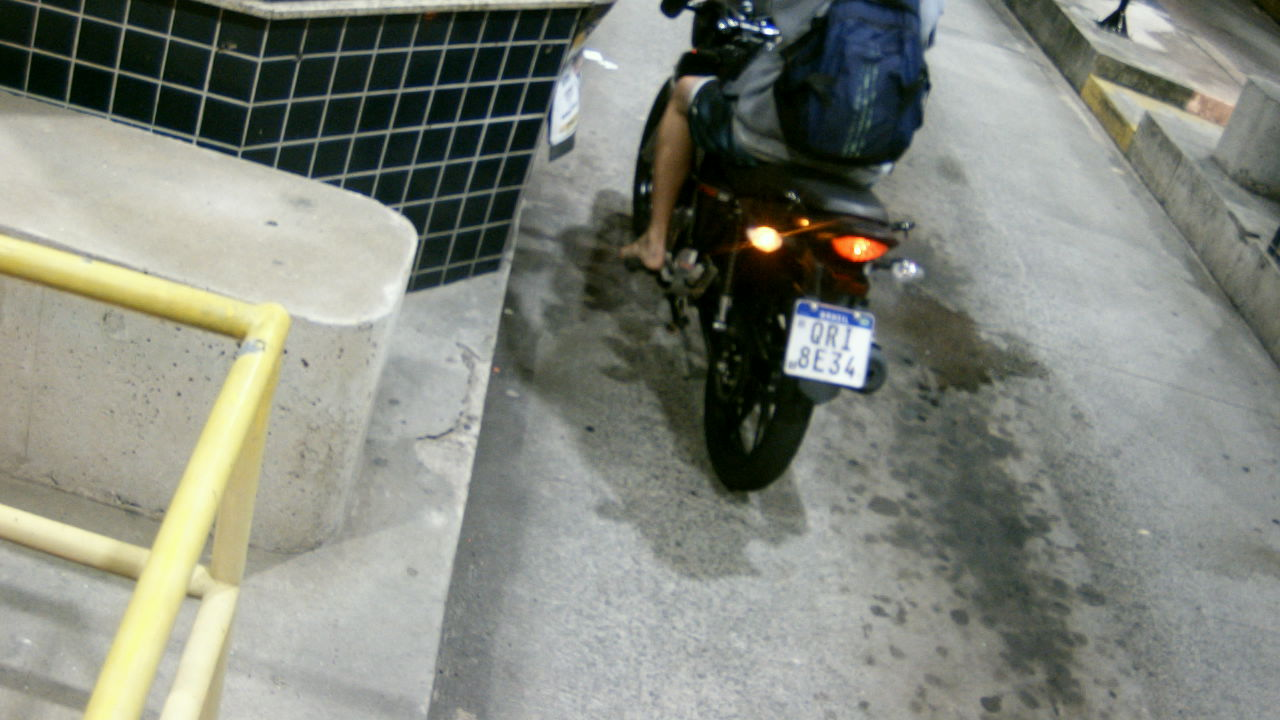placa: (782, 299, 876, 389)
